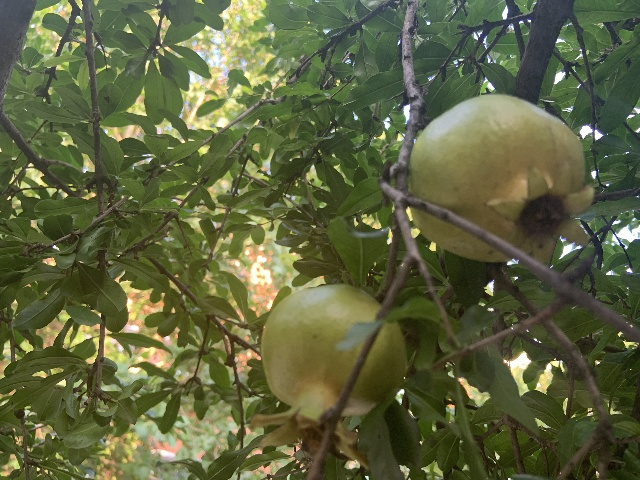mid-growth: (406, 94, 595, 268), (246, 284, 406, 471)
